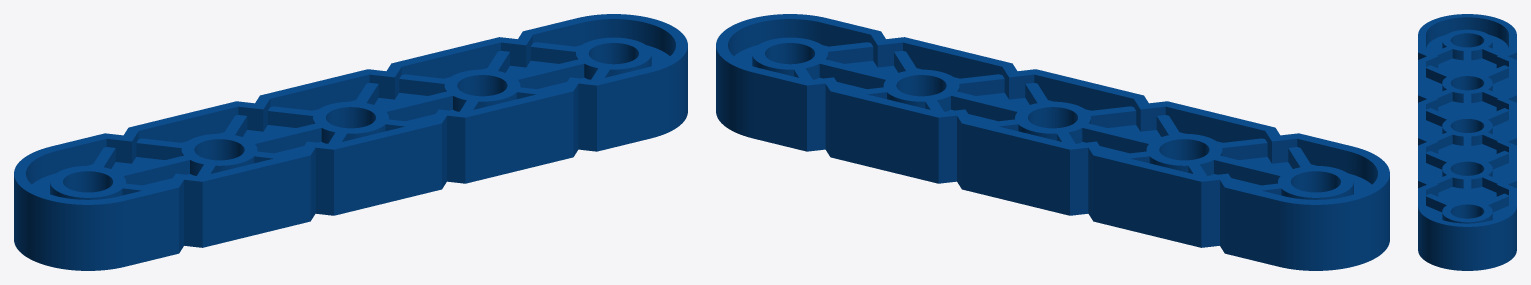
3 views of the same model, side by side, from view 1: azimuth 30°, elevation 25°; view 2: azimuth 150°, elevation 25°; view 3: azimuth 270°, elevation 25° (orthographic). The views are drawn at different scales.
Parts seen in each view (by area): view 1: 228-2500-004; view 2: 228-2500-004; view 3: 228-2500-004.
Part boxes in pixels (<box>): 228-2500-004: <box>14,14,687,270</box>; 228-2500-004: <box>716,14,1389,270</box>; 228-2500-004: <box>1418,14,1516,270</box>.
Size of the model in its own units: 0.0632 by 0.0061 by 0.0124.
